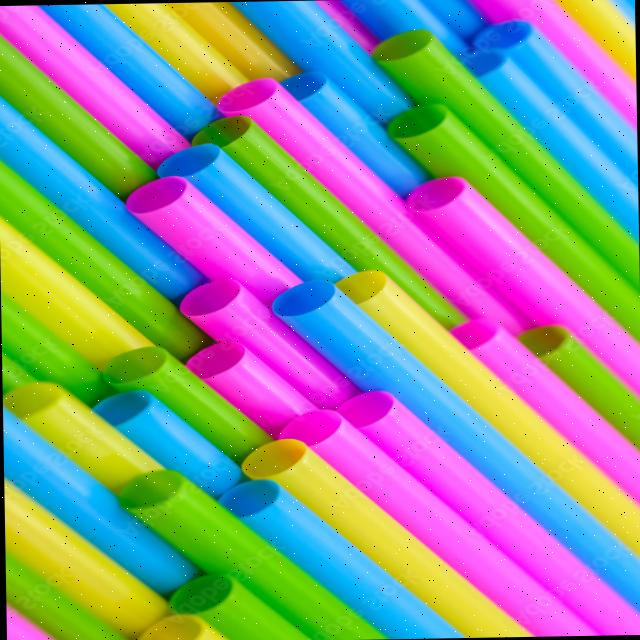plastic: (96, 432, 379, 640)
